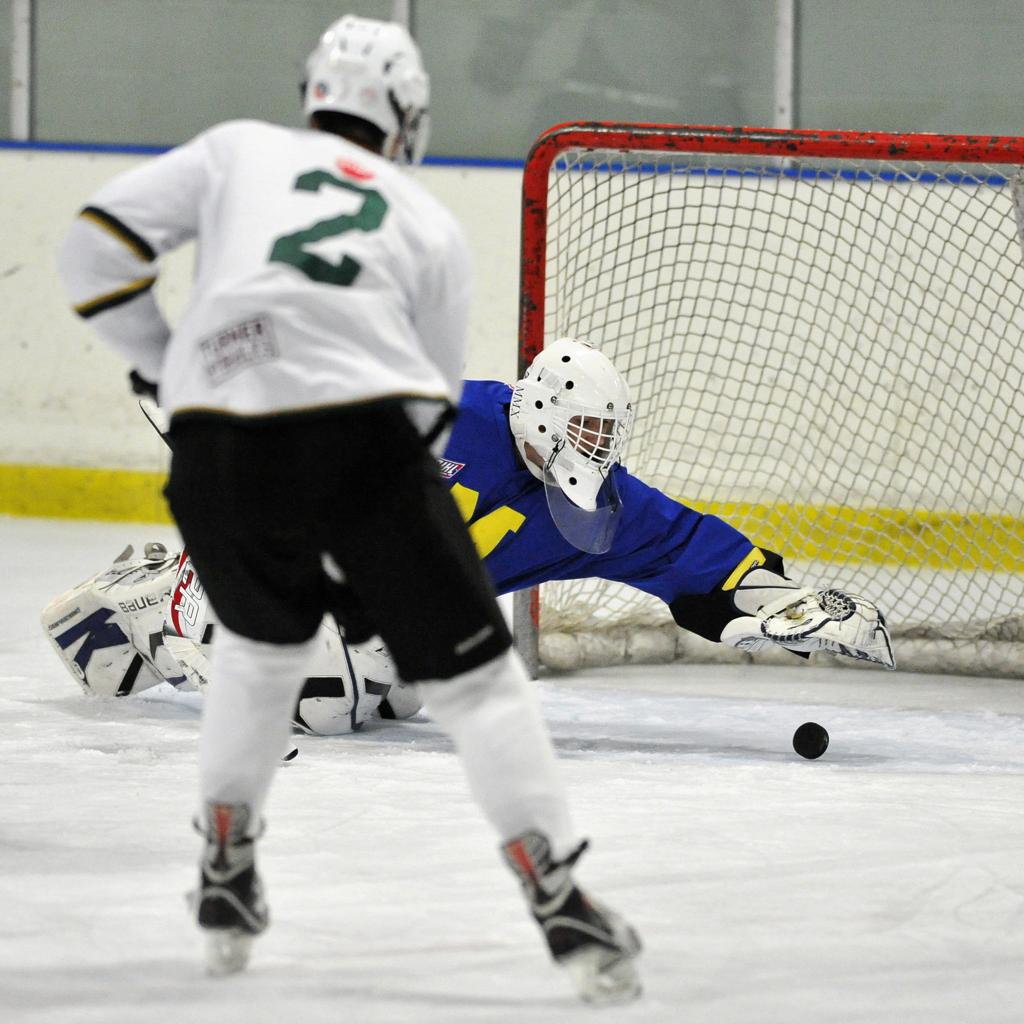face: (561, 395, 615, 489)
